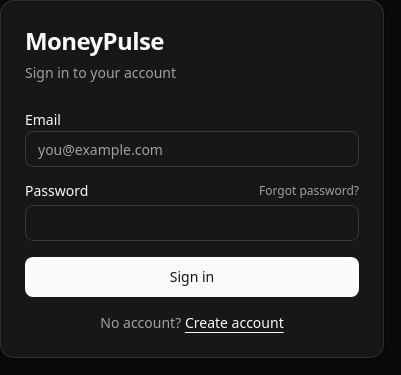
LoginForm › disables submit button while loading
The width and height of the screenshot is (401, 375).
Type "user@example.com" into the field labelled "Email" at {"x": 192, "y": 149}, box [25,131,359,167]
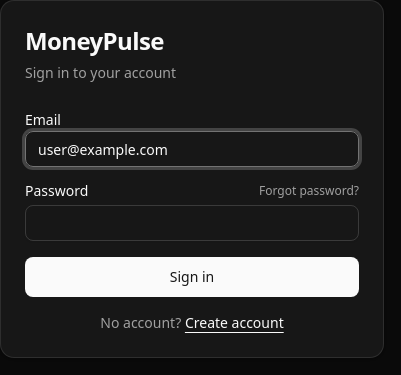
Type "password123" into the password field labelled "Password" at {"x": 192, "y": 223}, box [25,205,359,241]
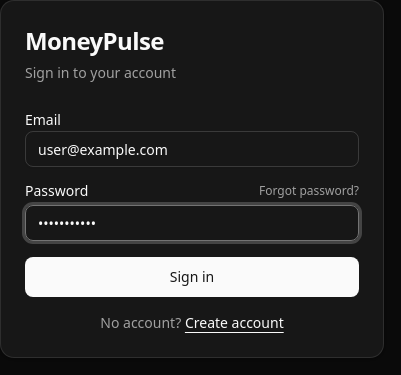
Click the button "Sign in" at {"x": 192, "y": 277}, box [25,257,359,297]
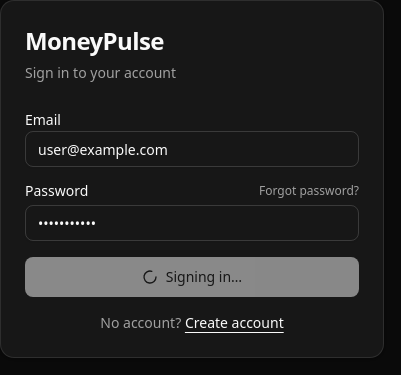
Check: the button "Signing in…" is disabled, box [25,257,359,297]
